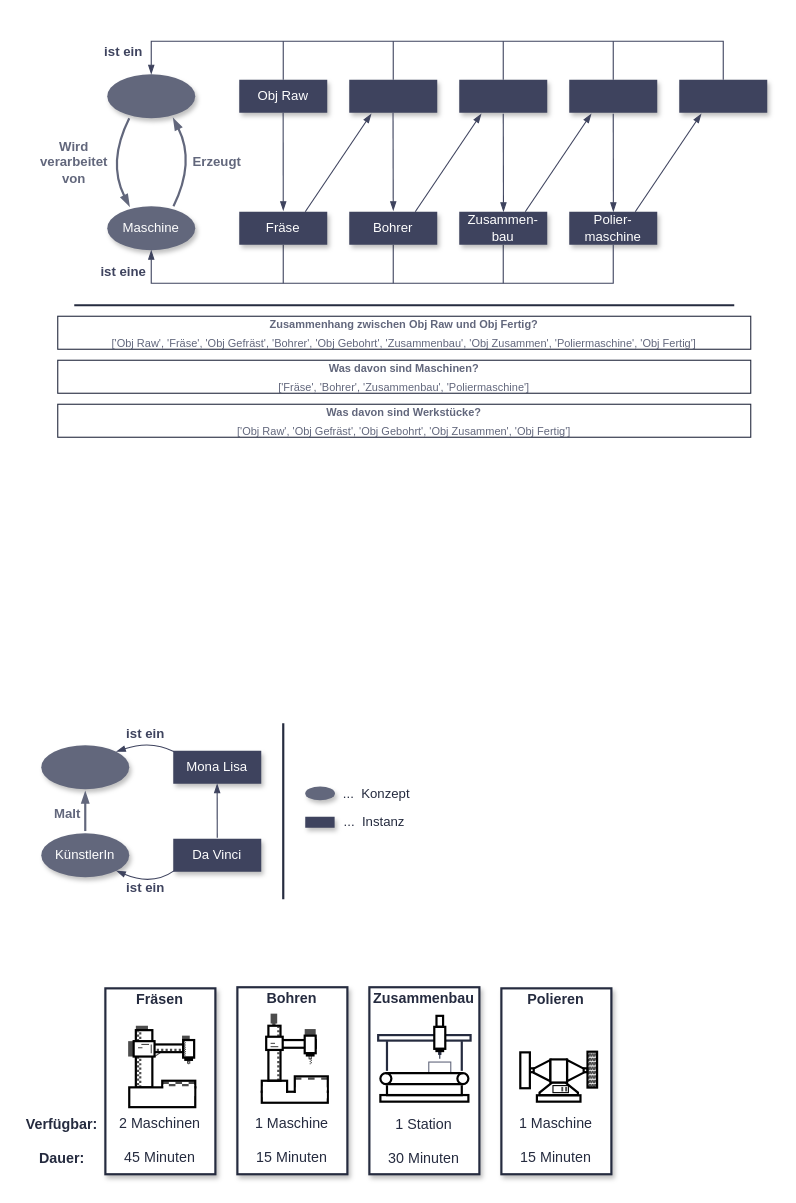
This 796x1203 diagram has some shape labels left out. Here are the shapes that lost their labels. From the top down, the centre of each, then its label:
At (151,97): "Werkstück".
At (393,97): "Obj Gefräst".
At (503,97): "Obj Gebohrt".
At (613,97): "Obj Zusammen".
At (723,97): "Obj Fertig".
At (85,768): "Kunstwerk".
